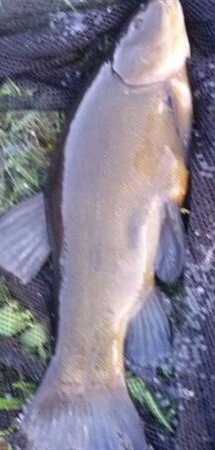Tinca tinca: (20, 1, 195, 450)
